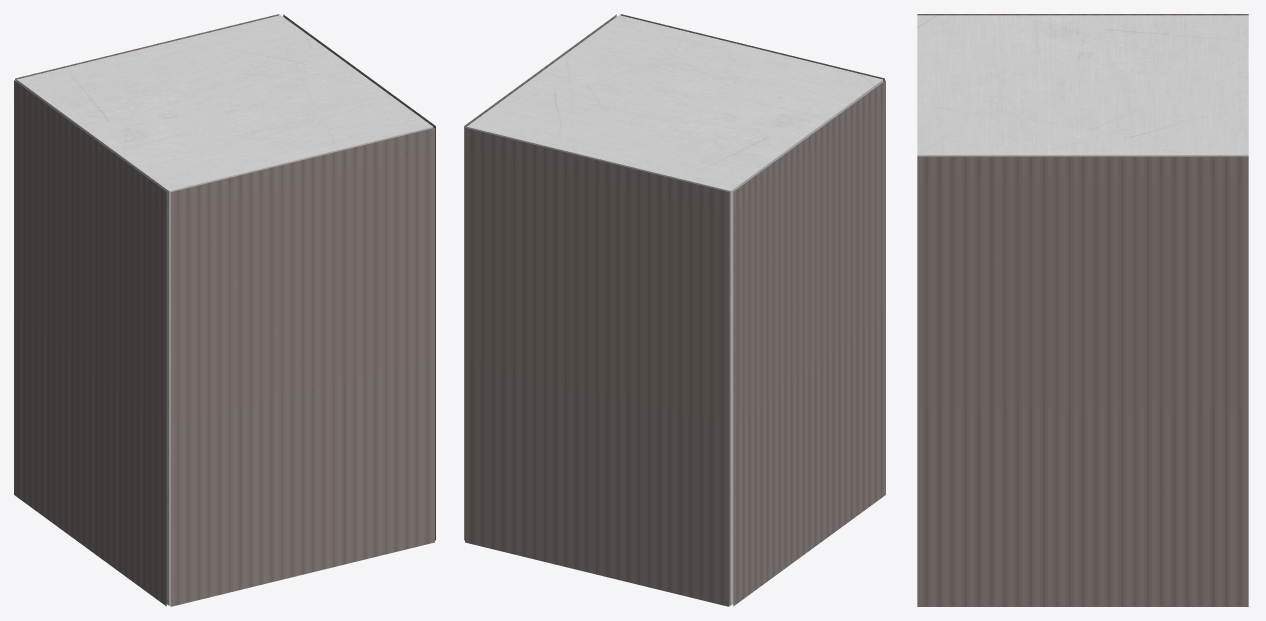
Rendered from transformer.obj.
3 views of the same model, side by side, from view 1: azimuth 30°, elevation 25°; view 2: azimuth 150°, elevation 25°; view 3: azimuth 270°, elevation 25° (orthographic). The views are drawn at different scales.
Parts seen in each view (by area): view 1: Transformer3, Transformer4, Transformer1, Transformer2, Transformer5; view 2: Transformer5, Transformer4, Transformer1, Transformer2, Transformer3; view 3: Transformer2, Transformer1, Transformer4.
Part boxes in pixels (x1,y1,x2,y2): Transformer3: (170, 128, 434, 606); Transformer4: (14, 80, 166, 606); Transformer1: (16, 15, 433, 605); Transformer2: (283, 14, 435, 540); Transformer5: (15, 14, 279, 81); Transformer5: (465, 128, 729, 606); Transformer4: (733, 80, 885, 606); Transformer1: (466, 15, 883, 605); Transformer2: (464, 14, 616, 540); Transformer3: (620, 14, 884, 81); Transformer2: (917, 156, 1248, 606); Transformer1: (917, 15, 1248, 156); Transformer4: (917, 14, 1248, 15).
Bounding box in the file's own units: 2.04 × 3 × 2.04.
Materials: 2 (2 with a texture image).
